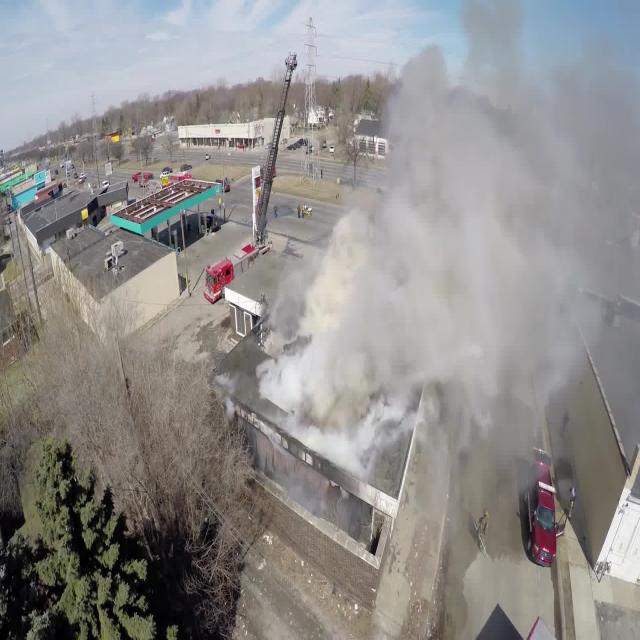Smoke: (267, 71, 629, 449)
